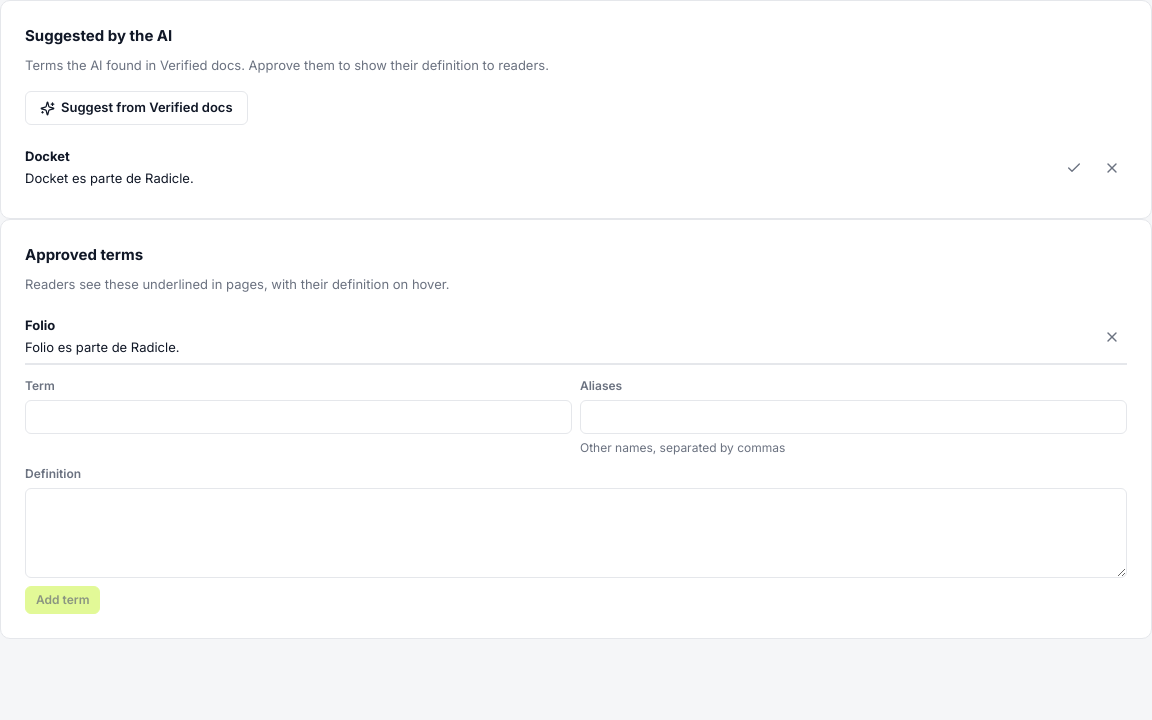
it: GlossaryAdmin › approves suggestions, asks the AI for more and adds a term by hand
Expected: the text "Folio es parte de Radicle." is shown, [25, 338, 180, 354]
Click the button named "Approve Docket".
click(1074, 168)  # box [1059, 152, 1089, 182]
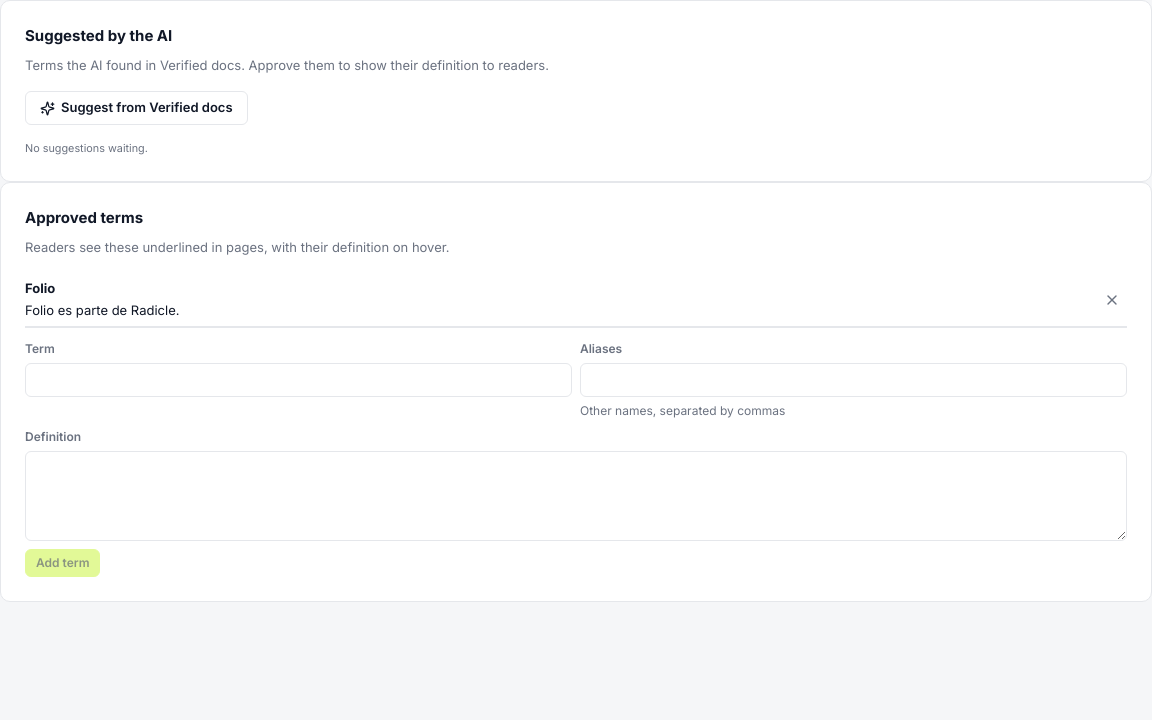
Expected: the text "No suggestions waiting." is shown, [25, 142, 148, 155]
Click the button "Suggest from Verified docs".
click(136, 108)  # box [25, 91, 248, 125]
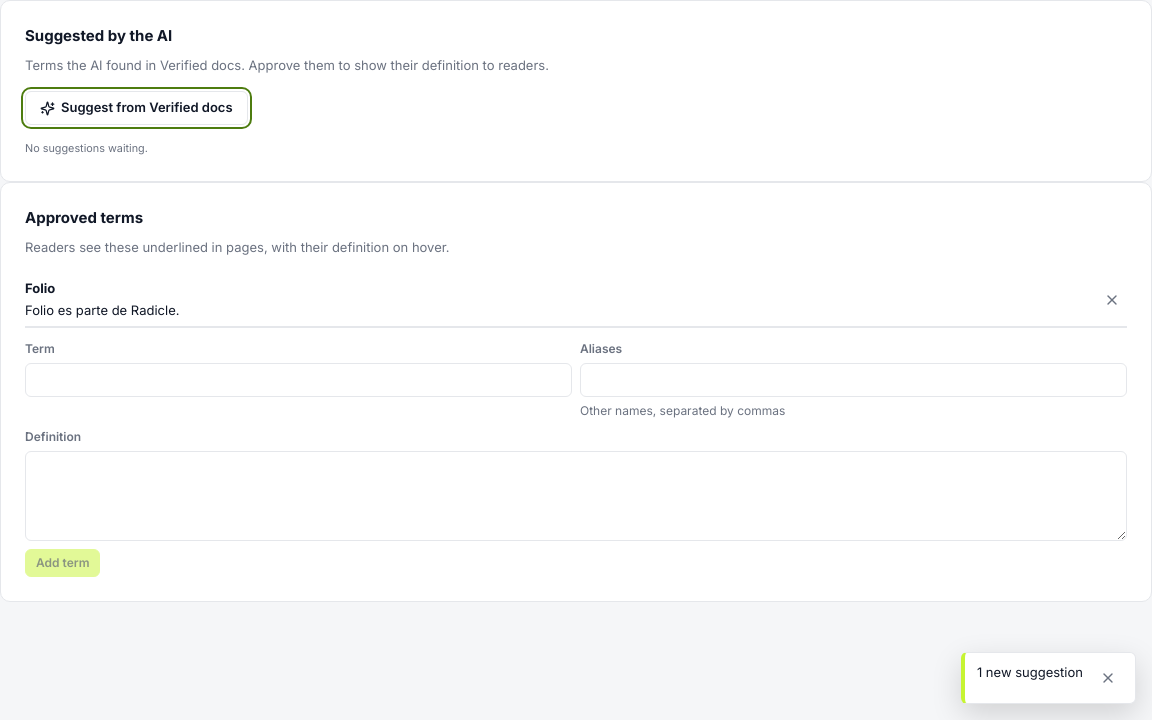
Expected: the text "1 new suggestion" is shown, [977, 663, 1083, 682]
Type "MCP" into the field labelled "Term".
click(298, 380); type("MCP")  # box [25, 363, 572, 397]
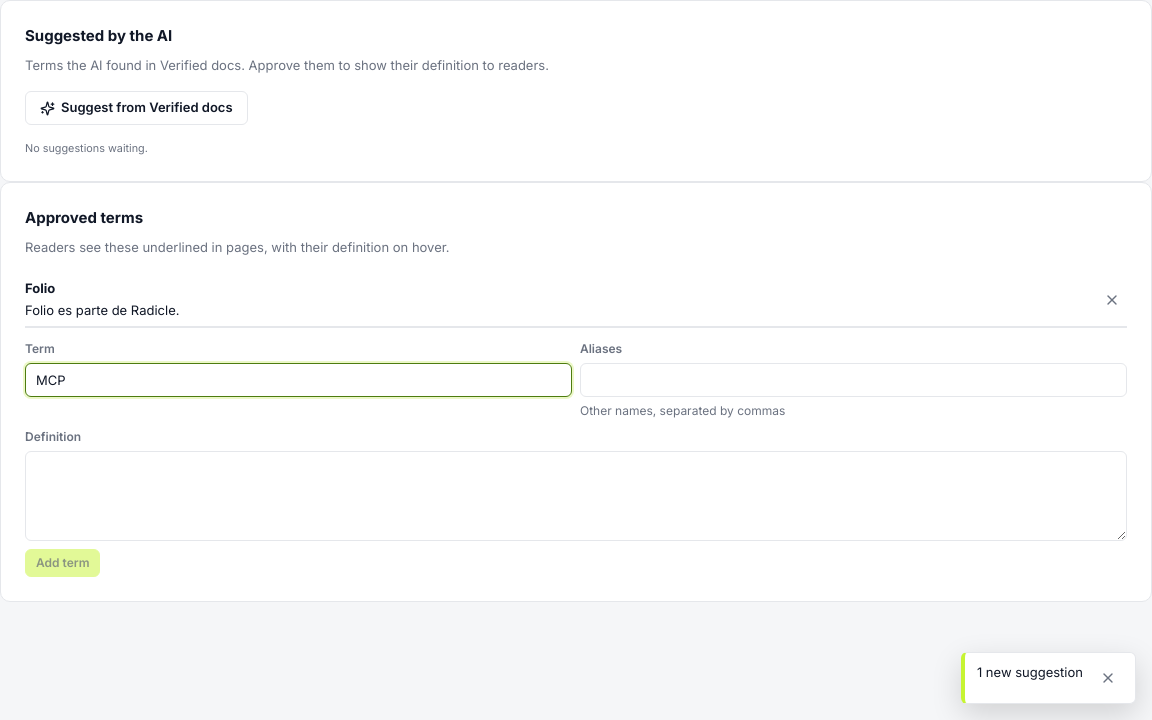
Type "protocolo, model context" into the field labelled "Aliases".
click(854, 380); type("protocolo, model context")  # box [580, 363, 1127, 397]
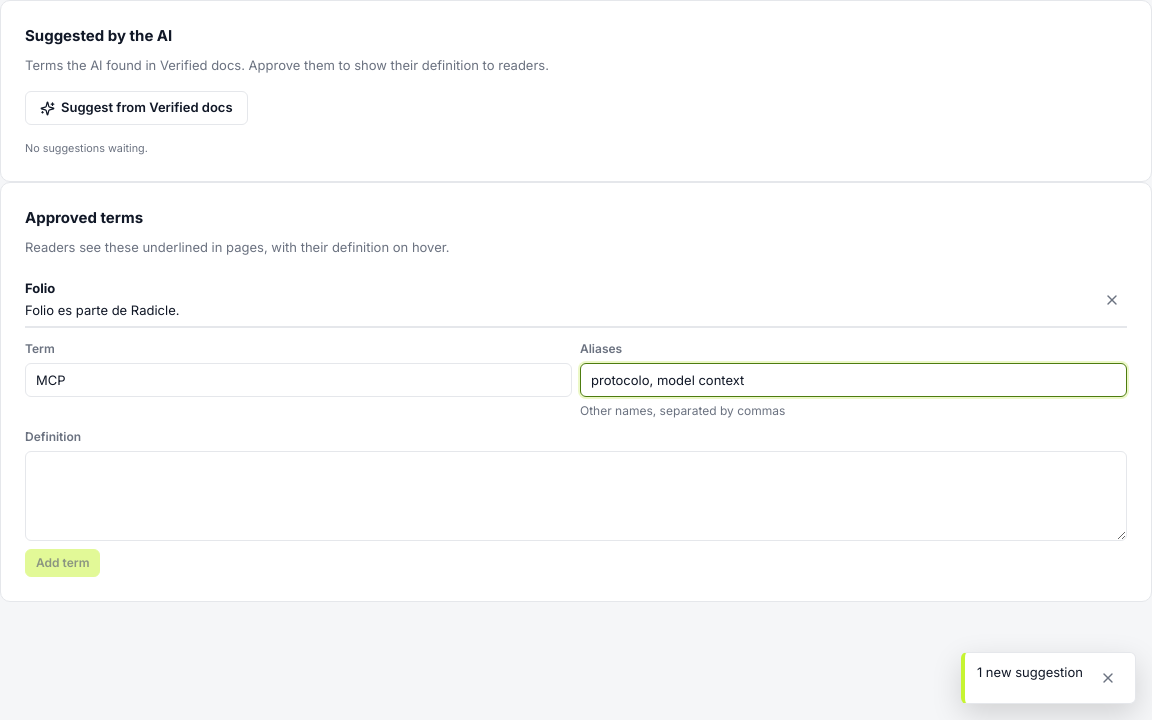
Type "Cómo se conectan los agentes." into the text box labelled "Definition".
click(576, 496); type("Cómo se conectan los agentes.")  # box [25, 451, 1127, 541]
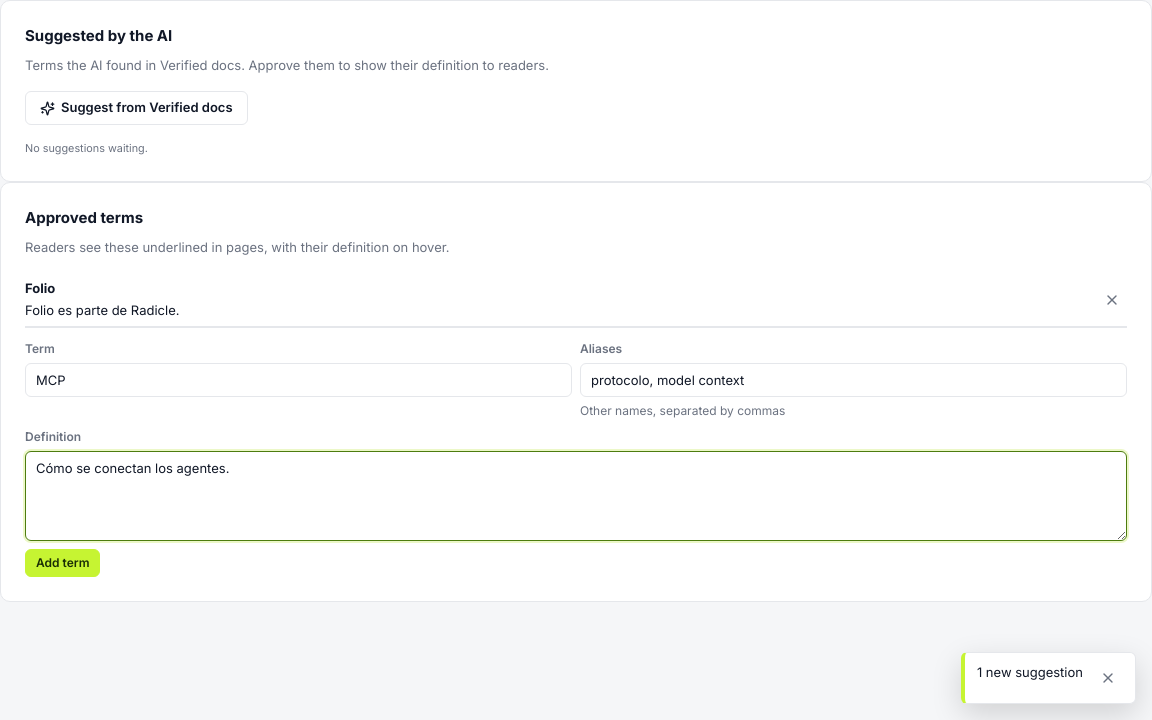
Click the button "Add term".
click(63, 563)  # box [25, 549, 100, 577]
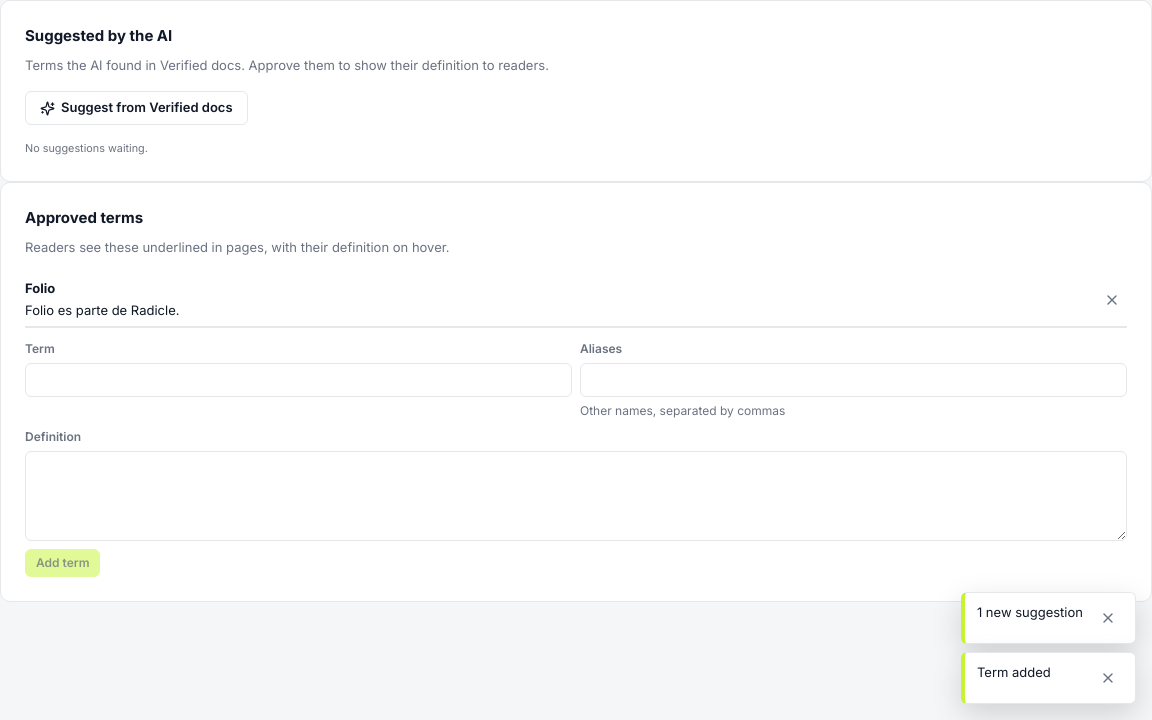
Expected: the text "Term added" is shown, [977, 664, 1051, 680]
